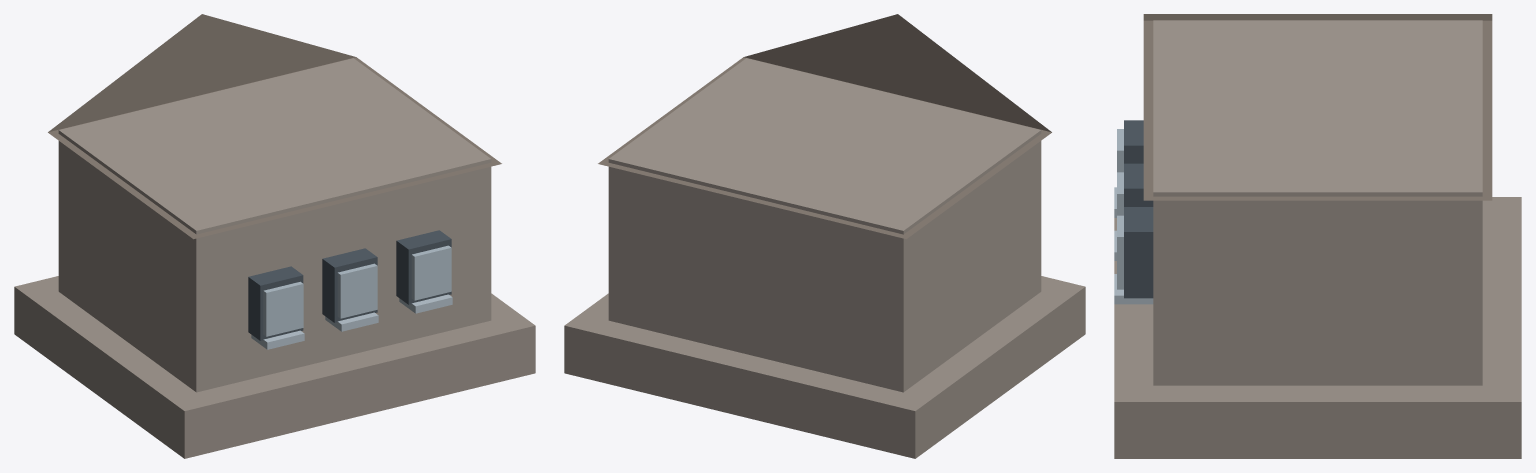
File: building-small-d.glb
3 views of the same model, side by side, from view 1: azimuth 30°, elevation 25°; view 2: azimuth 150°, elevation 25°; view 3: azimuth 270°, elevation 25° (orthographic). The views are drawn at different scales.
Visible parts, largest first — view 1: world; view 2: world; view 3: world.
Part boxes in pixels (x1,y1,x2,y2): world: [14, 14, 535, 458]; world: [564, 14, 1085, 458]; world: [1114, 14, 1521, 458].
Bounding box in the file's own units: 1 × 0.78 × 0.84.
